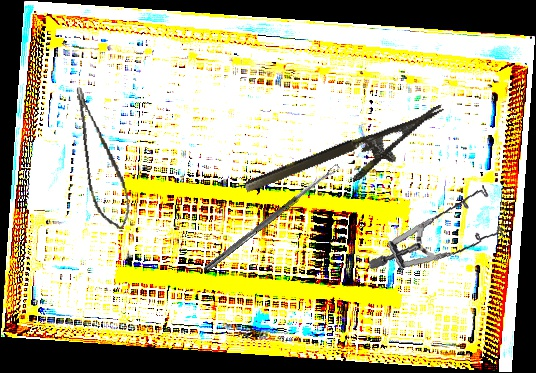Micro Scissor: (71, 81, 135, 235)
Needle Holder: (242, 104, 457, 219)
Speculum: (367, 169, 512, 289)
Surgical Spoon: (202, 163, 342, 274)
